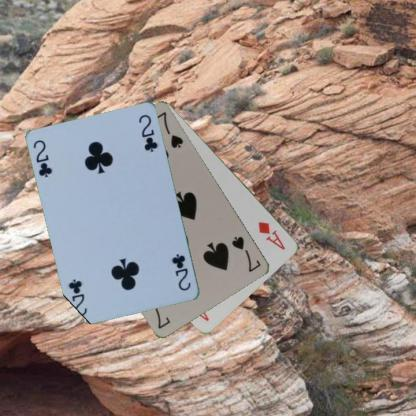2c: (30, 138, 53, 178), (170, 252, 192, 292)
7s: (228, 233, 262, 274)
Ad: (256, 218, 286, 252)
